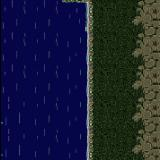Interaction: (82, 0, 104, 160)
Slow: (0, 0, 84, 160)
